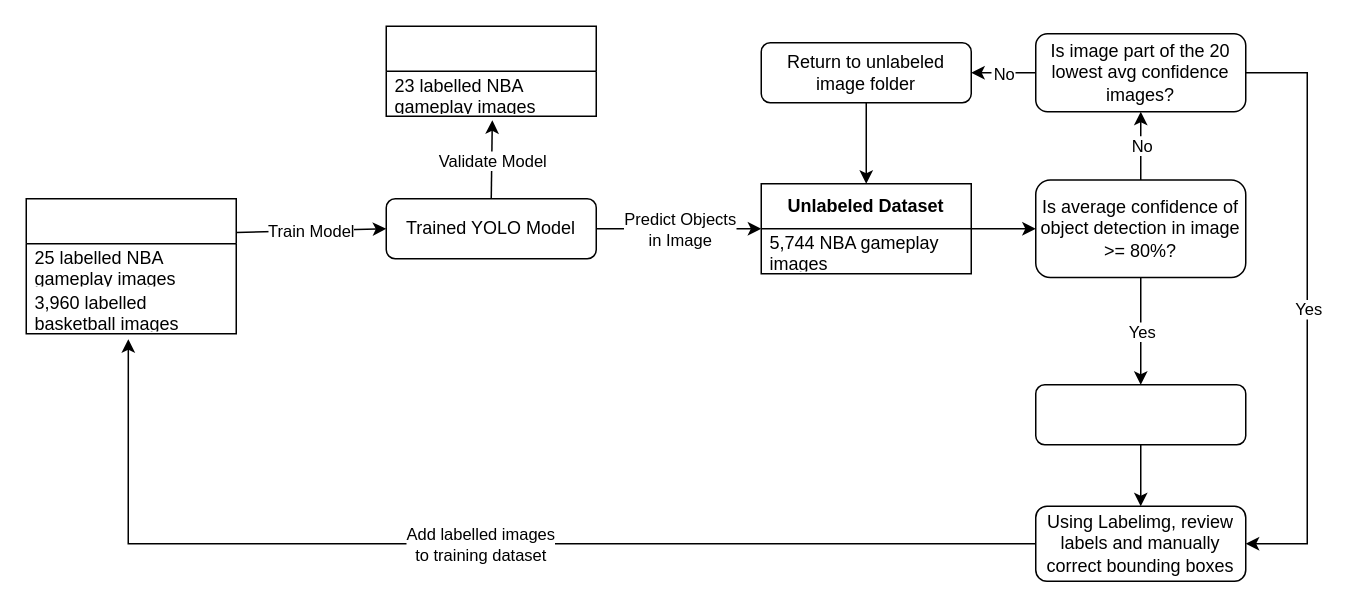
This 1347x608 diagram has some shape labels left out. Here are the shapes that lost their labels. From the top down, the box of each, then its label:
(385, 25, 596, 116): Validation Dataset
(25, 197, 236, 334): Training Dataset
(1034, 383, 1246, 445): Label image and store in autolabel folder
